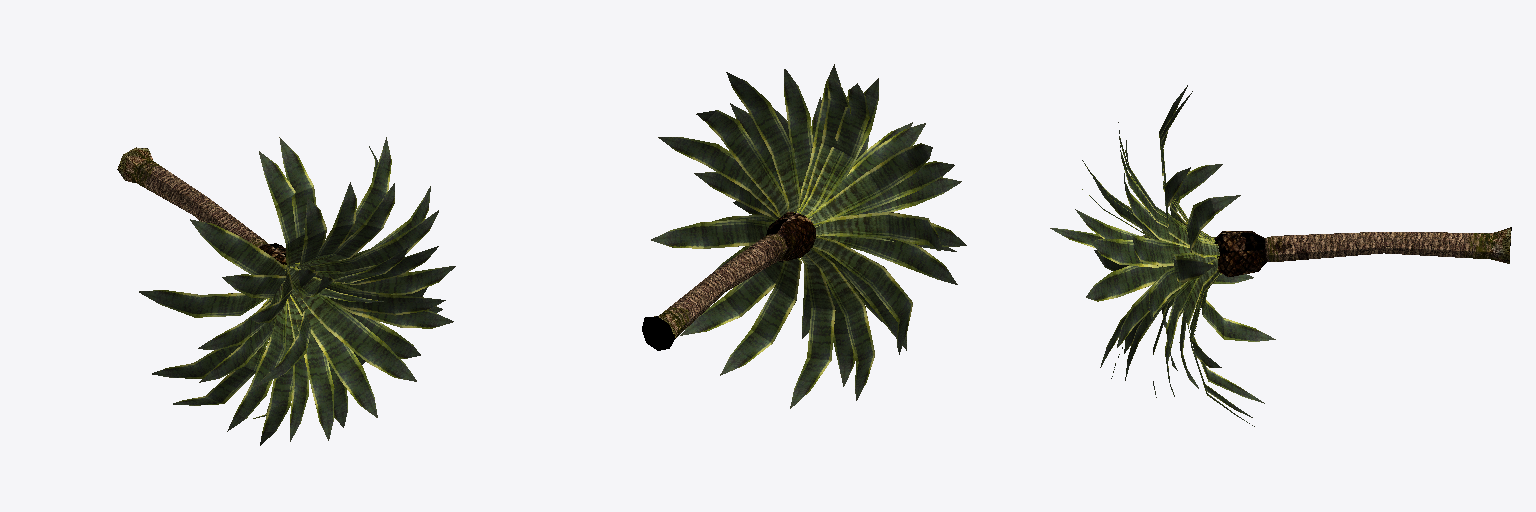
3 renders of one model, left to right at view 1: azimuth 30°, elevation 25°; view 2: azimuth 150°, elevation 25°; view 3: azimuth 270°, elevation 25°, orthographic.
Visible parts, largest first — view 1: ENV_MP_Iraq_PalmTree_01; view 2: ENV_MP_Iraq_PalmTree_01; view 3: ENV_MP_Iraq_PalmTree_01.
Part boxes in pixels (left/top/right/bottom): ENV_MP_Iraq_PalmTree_01: left=117, top=137, right=455, bottom=445; ENV_MP_Iraq_PalmTree_01: left=642, top=64, right=966, bottom=408; ENV_MP_Iraq_PalmTree_01: left=1050, top=85, right=1511, bottom=426.
Size of the model in its own units: 80.89 by 81.82 by 111.
2 materials, 2 textured.